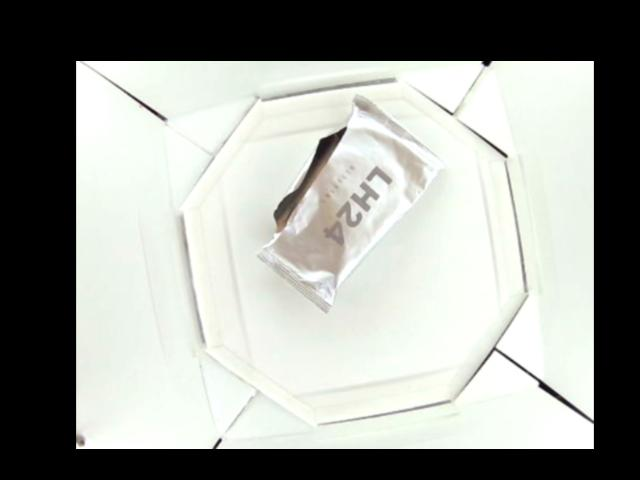Medicine: (257, 90, 444, 315)
